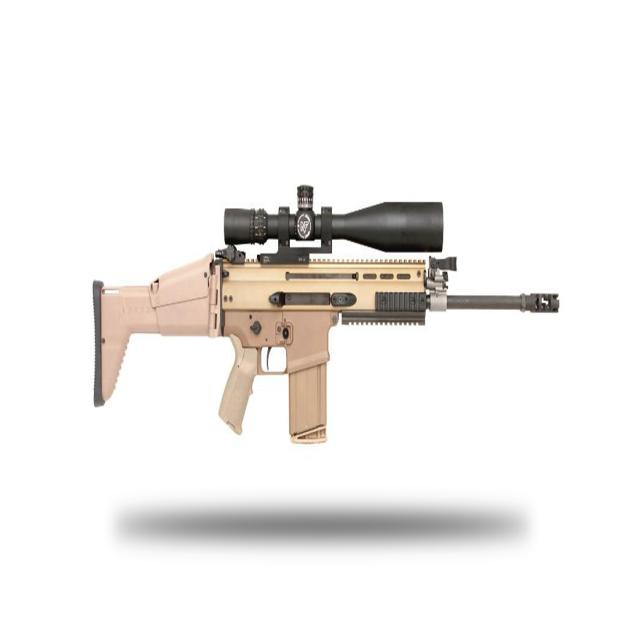Gun: (56, 132, 574, 489)
